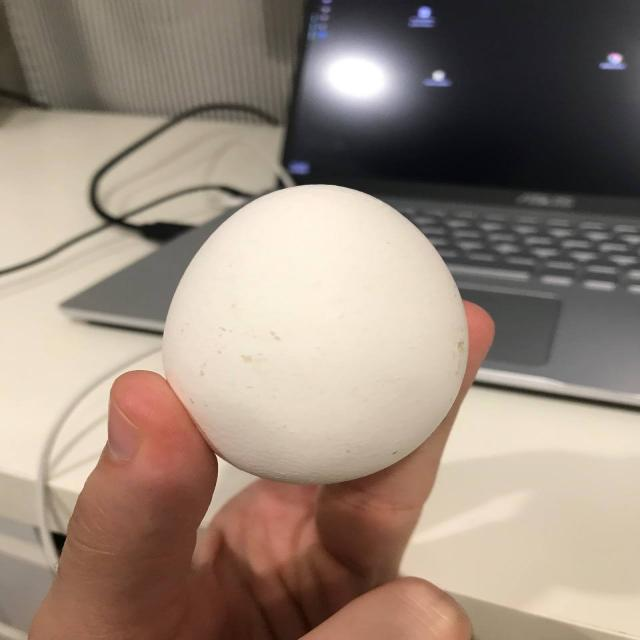egg: (162, 182, 470, 486)
